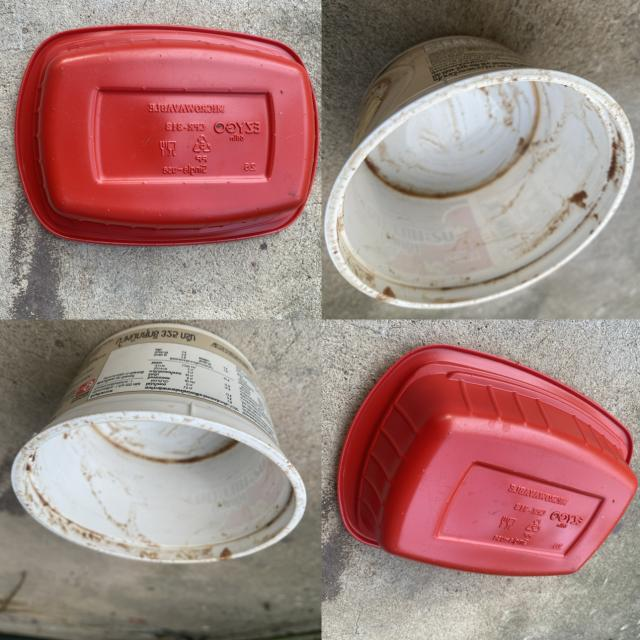plastik: (325, 35, 632, 308), (12, 323, 306, 562), (338, 347, 637, 575), (16, 25, 318, 244)
